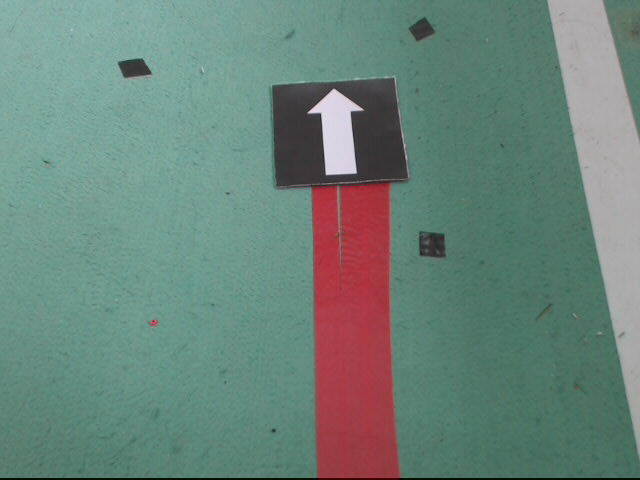straight: (270, 74, 408, 191)
